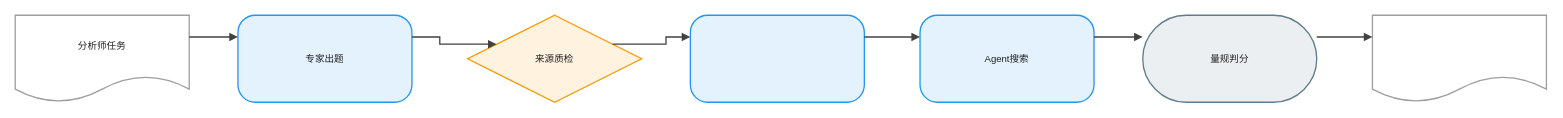
This 1563x118 diagram has some shape labels left out. The centre of each missing label's shape, as x and y in pixels:
"准确率" belongs at point (1459, 58).
"答案质检" belongs at point (777, 58).
